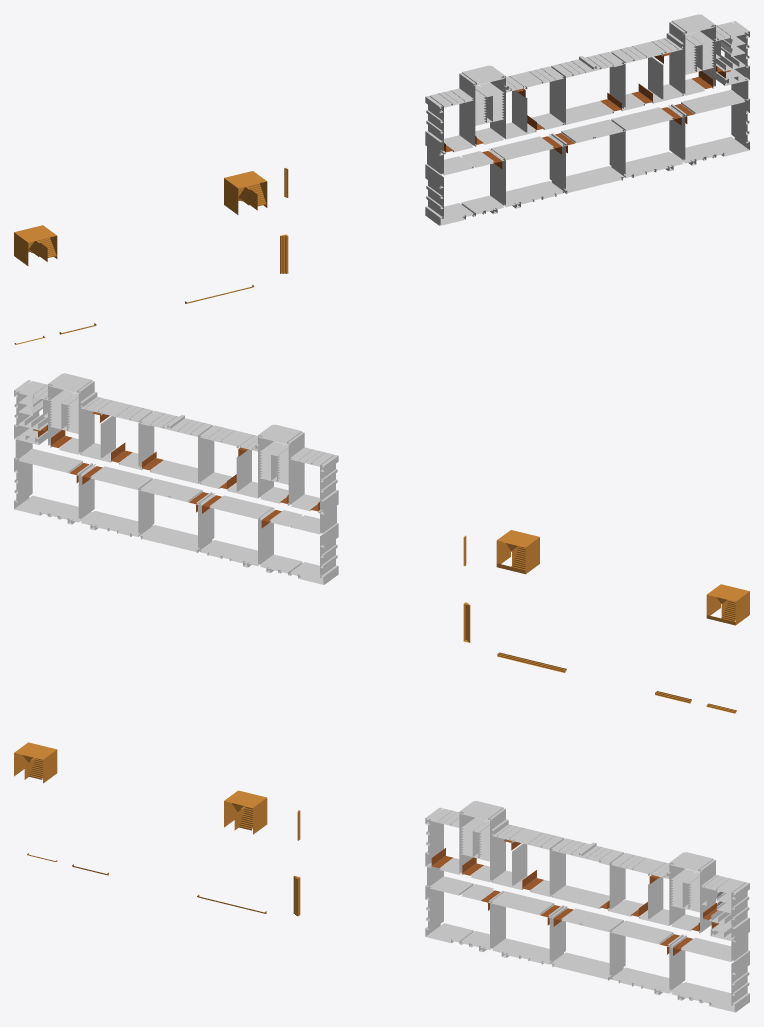
File: building_full.obj
The picture shows the model from 3 angles, top to bottom: view 1: azimuth 30°, elevation 25°; view 2: azimuth 150°, elevation 25°; view 3: azimuth 330°, elevation 25°; orthographic projection.
Parts seen in each view (by area): view 1: Wall, Stair, Door; view 2: Wall, Stair, Door; view 3: Wall, Stair, Door.
Boxes of the visible parts, <box> form: Wall: <box>425,14,749,225</box>; Stair: <box>14,168,288,344</box>; Door: <box>444,52,730,169</box>; Wall: <box>14,373,338,584</box>; Stair: <box>463,530,749,713</box>; Door: <box>33,411,319,528</box>; Wall: <box>425,800,749,1012</box>; Stair: <box>14,742,300,916</box>; Door: <box>431,839,718,955</box>.
Bounding box in the file's own units: 86989 × 18880 × 3900.
